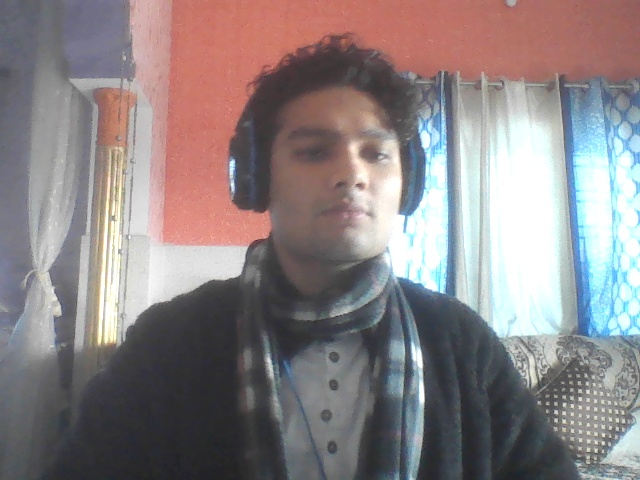real: (253, 50, 410, 272)
